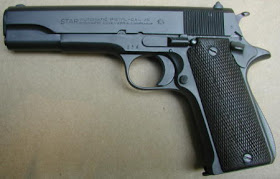Arma Real: (2, 2, 280, 176)
